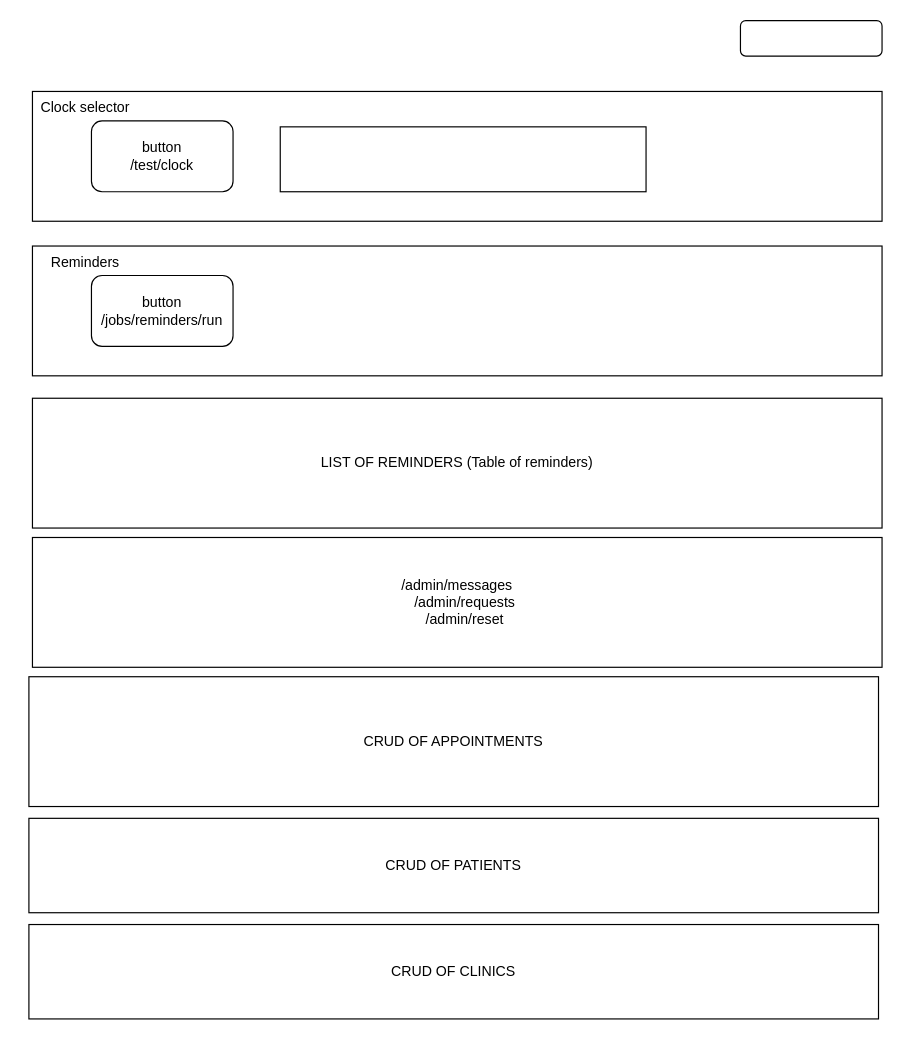
Some shapes in this 903 by 1040 pixel diagram are drawn without their labels. The centre of each missing label's shape, as x and y in pixels:
"Refresh All" belongs at pixel 810 37.
"timestamp selector, including seconds, seconds as 00 by default" belongs at pixel 462 159.
